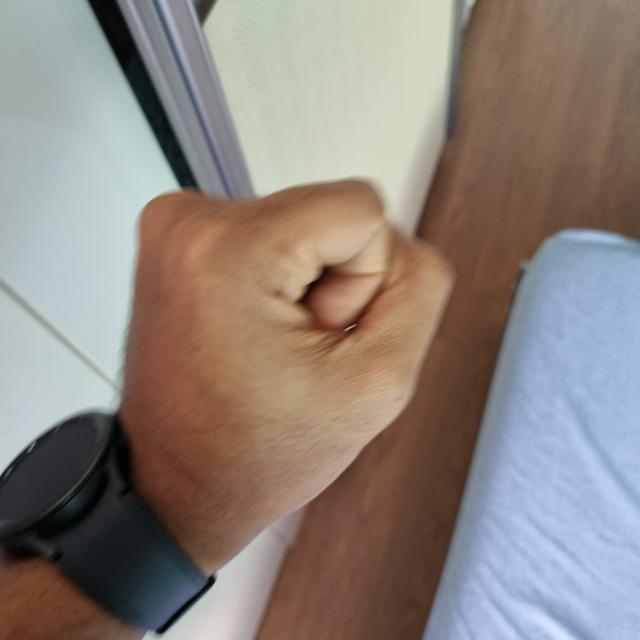Rock: (438, 0, 639, 252)
